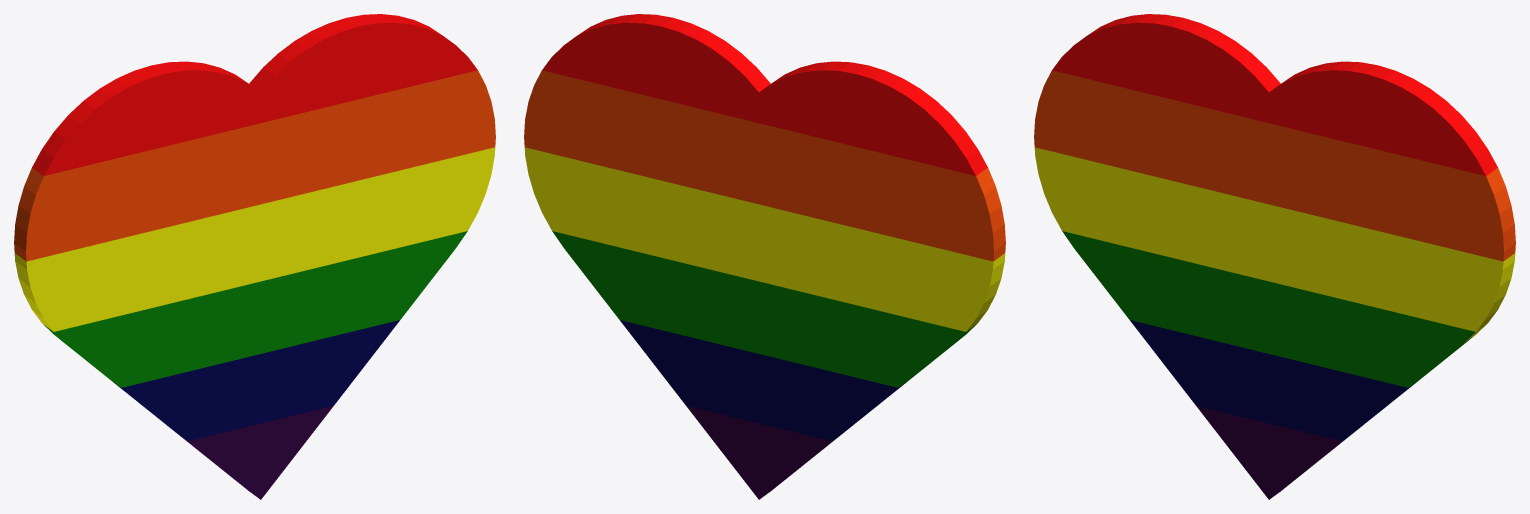
File: pin_pride_2024.obj
3 views of the same model, side by side, from view 1: azimuth 30°, elevation 25°; view 2: azimuth 150°, elevation 25°; view 3: azimuth 330°, elevation 25° (orthographic).
Visible parts, largest first — view 1: 1, 2, 3, 4, 5, 0; view 2: 1, 2, 3, 4, 5, 0; view 3: 1, 2, 3, 4, 5, 0.
Part boxes in pixels (x1,y1,x2,y2): 1: (14,70,495,261); 2: (14,147,495,331); 3: (32,14,477,175); 4: (43,231,467,387); 5: (112,320,399,441); 0: (178,406,333,499); 1: (524,70,1005,261); 2: (524,147,1005,331); 3: (542,14,987,175); 4: (552,231,976,387); 5: (620,320,907,441); 0: (686,406,841,499); 1: (1034,70,1515,261); 2: (1034,147,1515,342); 3: (1052,14,1497,175); 4: (1062,231,1475,387); 5: (1130,320,1417,441); 0: (1196,406,1351,499).
Size of the model in its own units: 0.0647 by 0.0591 by 0.00284.
